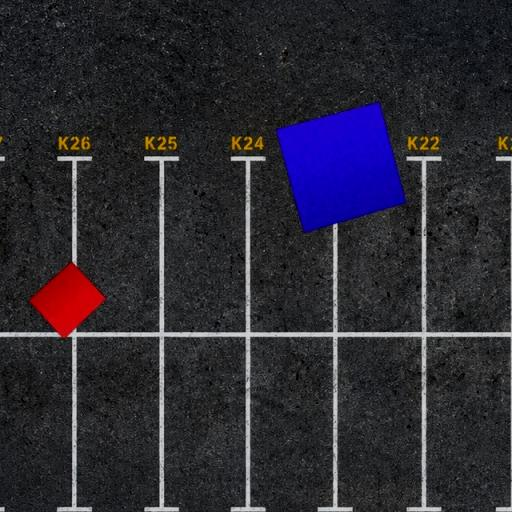BLUE_SQUARE: (275, 102, 407, 234)
RED_SQUARE: (28, 261, 107, 340)
